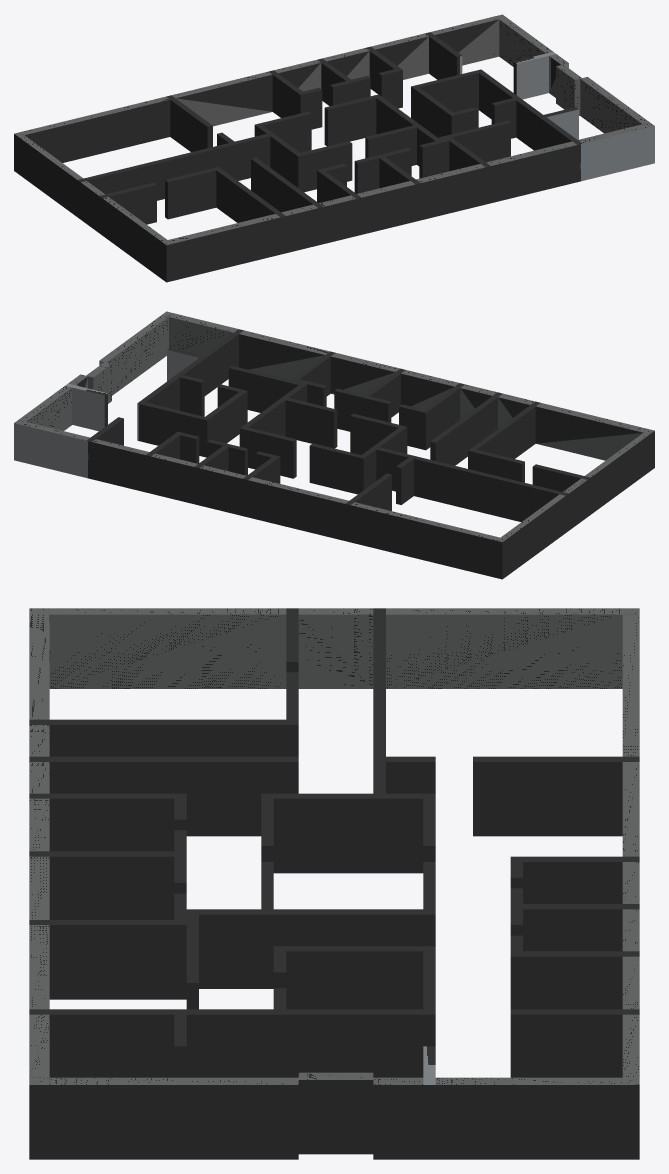
Rendered from hitbox.fbx.
The picture shows the model from 3 angles, top to bottom: view 1: azimuth 30°, elevation 25°; view 2: azimuth 150°, elevation 25°; view 3: azimuth 270°, elevation 25°; orthographic projection. The views are drawn at different scales.
Visible parts, largest first — view 1: Walls; view 2: Walls; view 3: Walls.
Boxes of the visible parts, bbox=[...] form: Walls: bbox=[14, 14, 654, 282]; Walls: bbox=[14, 311, 654, 579]; Walls: bbox=[29, 608, 639, 1159].
Bounding box in the file's own units: 16466 × 1200 × 8904.
